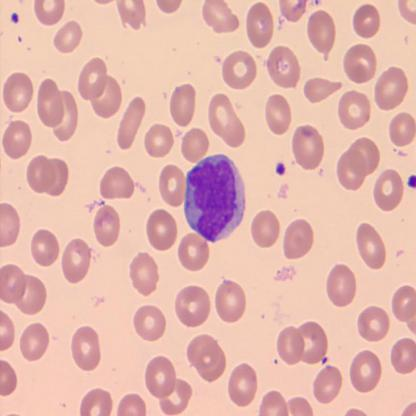Monocyte: (182, 151, 246, 244)
